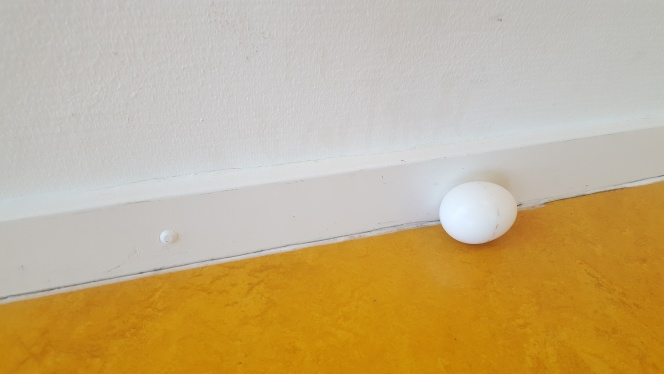egg: (440, 180, 519, 253)
